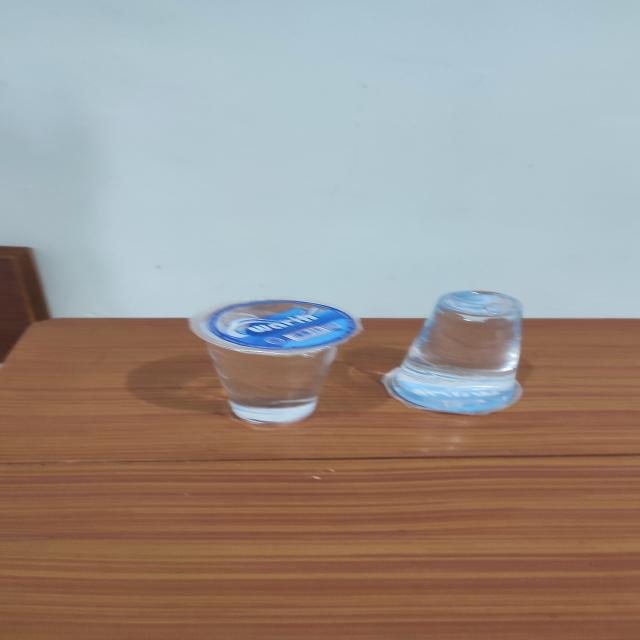air gelas: (193, 290, 369, 432), (383, 281, 537, 423)
